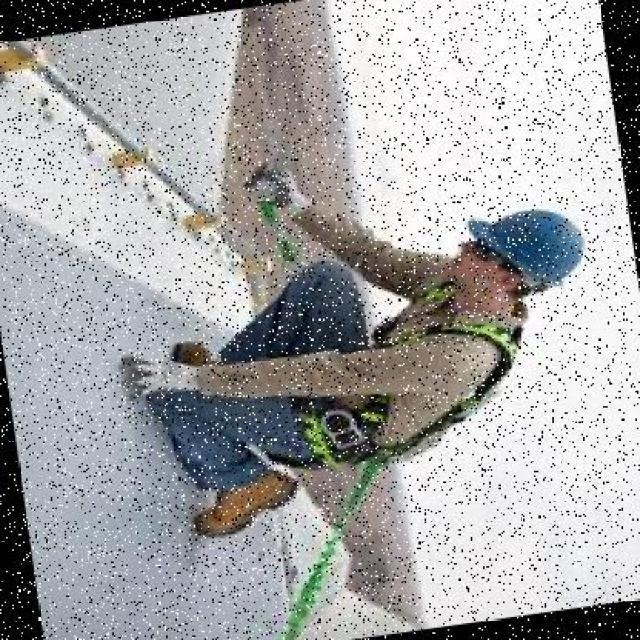Arnes_seguridad: (269, 268, 537, 476)
